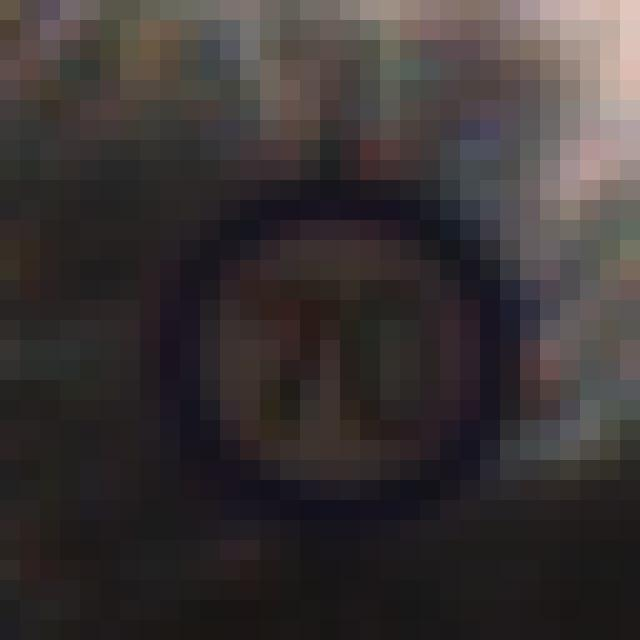SPEED LIMIT 70: (177, 189, 517, 520)
